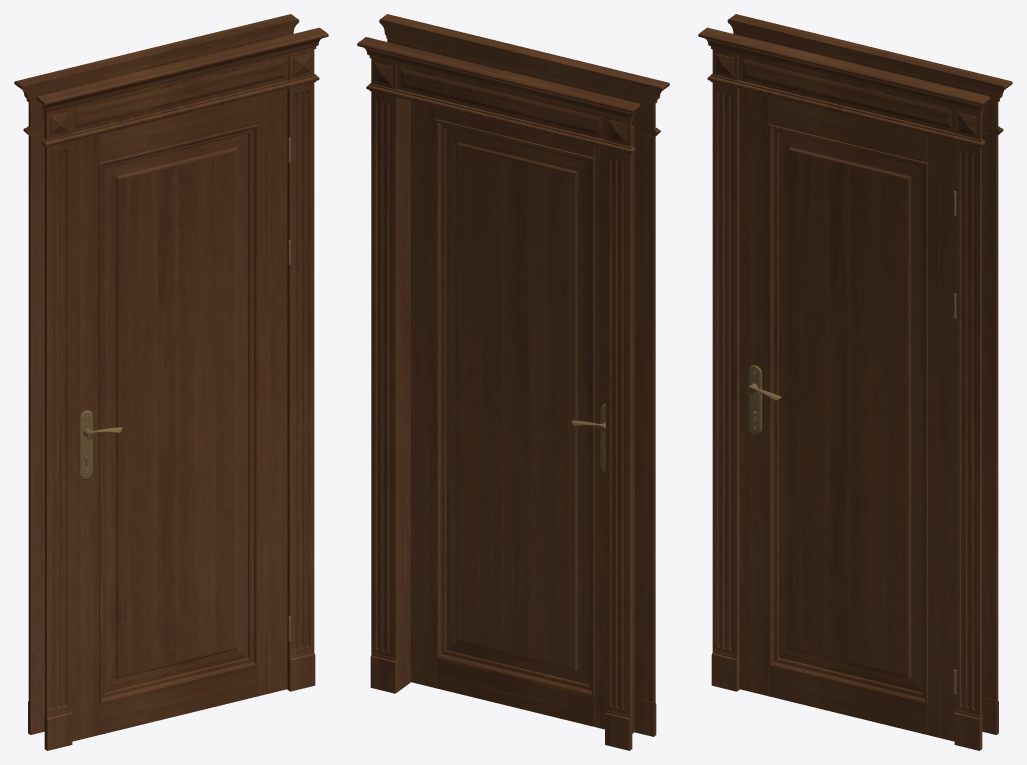
File: door_classic.glb
The picture shows the model from 3 angles, left to right: view 1: azimuth 30°, elevation 25°; view 2: azimuth 150°, elevation 25°; view 3: azimuth 330°, elevation 25°; orthographic projection.
Parts seen in each view (by area): view 1: dors6; view 2: dors6; view 3: dors6.
Part boxes in pixels (x1=…): dors6: x1=14, y1=14, x2=328, y2=750; dors6: x1=357, y1=14, x2=669, y2=750; dors6: x1=698, y1=14, x2=1012, y2=750.
Bounding box in the file's own units: 1.04 × 2.28 × 0.2138.
Materials: 2 (1 with a texture image).
